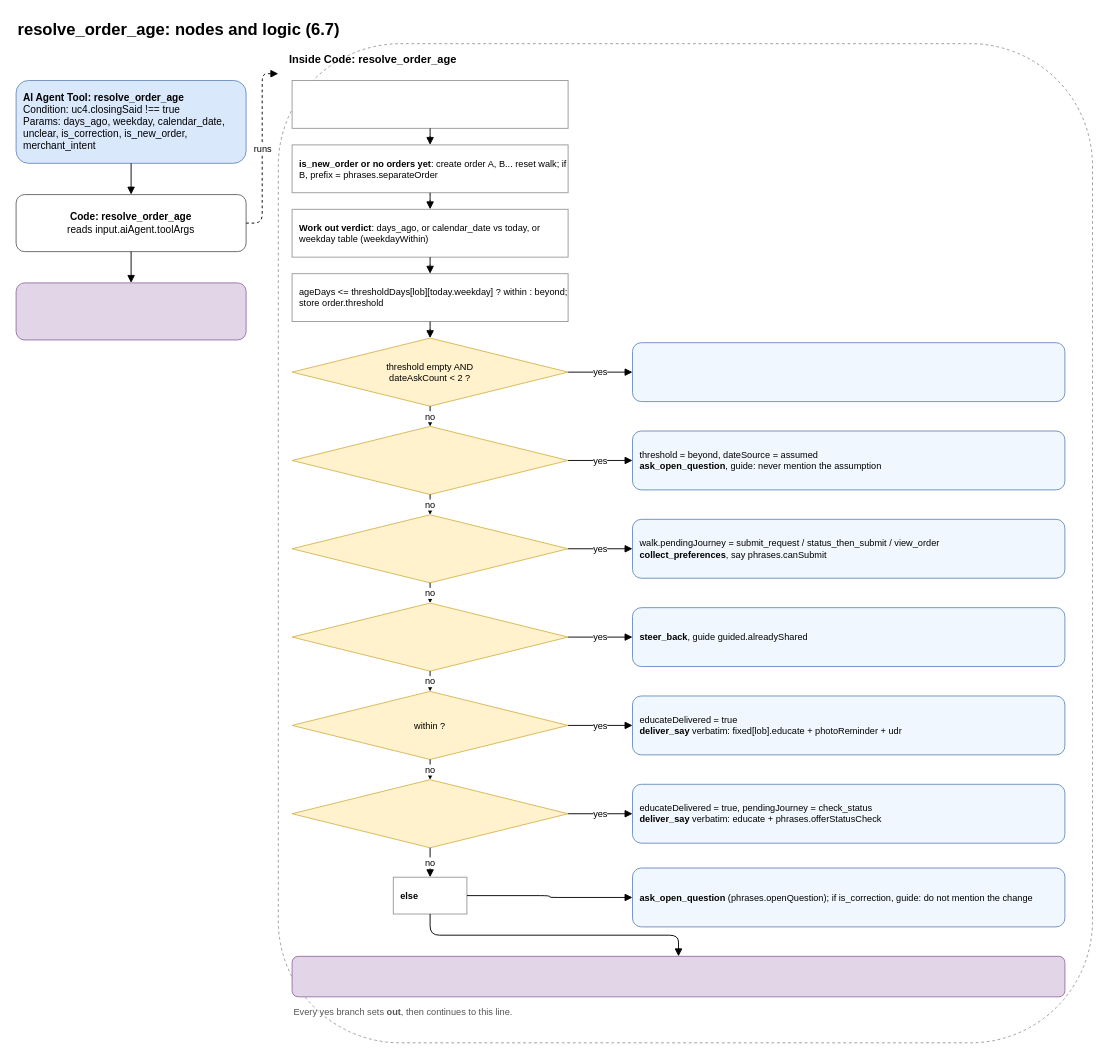
The diagram is 1109 pixels wide and 1059 high, and some of its shapes have lost their labels. Each missing label, with the centre of its shape:
dateAskCount + 1 ask_date : phrases.askDate1 (1st), askDate2 (2nd): [848,372]
Guard shortTermMemory. u = uc4, cfg, fx = cfg.fixed, ph = fx.phrases: [429,104]
input.uc4Result = out; actions.output("", out) → Resolve Tool Action: [678,976]
intent submit, status_and_submit or view_order ?: [429,548]
intent timeline or status ?: [429,813]
Resolve Tool Action back to AI Agent: [130,311]
threshold still empty ?: [429,460]
within AND timeline already given ?: [429,636]
